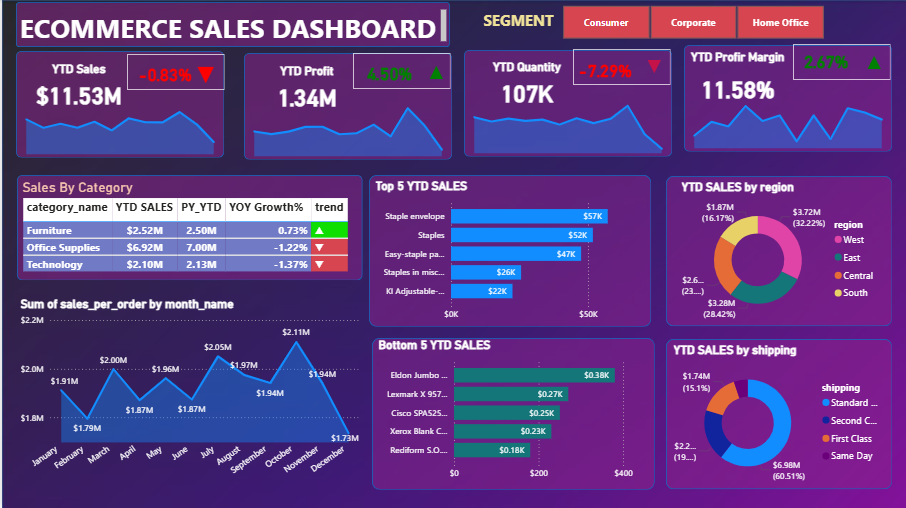

What the dashboard file says about the page in this screenshot:
{"tool":"powerbi","page":{"name":"Page 1","canvas":[1280,720],"ordinal":0},"visuals":[{"type":"shape","box":[19.7,2.2,614.8,63.8],"z":0},{"type":"textbox","box":[19.7,9,614.8,57.1],"z":1000},{"type":"shape","box":[20,72.8,295,151.1],"z":2000},{"type":"shape","box":[21.8,247.6,489.8,149.3],"z":3000},{"type":"card","title":"YTD Sales","fields":{"Values":["MEASURTABLE.YTD SALES"]},"box":[20,87.4,178.4,72.8],"z":4000},{"type":"areaChart","fields":{"Category":["calander.month_name"],"Y":["Sum(ecommerce_data.sales_per_order)"]},"box":[20,134.7,295,89.2],"z":5000},{"type":"card","fields":{"Values":["MEASURTABLE.YOY Growth%"]},"box":[176.6,87.4,107.4,34.6],"z":6000},{"type":"card","fields":{"Values":["MEASURTABLE.sales_trend"]},"box":[260.4,83.8,54.6,43.7],"z":7000},{"type":"shape","box":[176.6,76.5,138.4,51],"z":8000},{"type":"shape","box":[343.2,75.5,295,151.1],"z":9000},{"type":"card","title":"YTD Profit","fields":{"Values":["MEASURTABLE.YTD Profit"]},"box":[343.2,90.1,178.4,72.8],"z":10000},{"type":"areaChart","fields":{"Category":["calander.month_name"],"Y":["Sum(ecommerce_data.profit_per_order)"]},"box":[343.2,137.5,295,89.2],"z":11000},{"type":"shape","box":[497.1,74.7,138.4,51],"z":12000},{"type":"card","fields":{"Values":["MEASURTABLE.YOY profit growth%"]},"box":[504.4,80.1,89.2,47.3],"z":13000},{"type":"card","fields":{"Values":["MEASURTABLE.profit_trend"]},"box":[593.6,78.3,43.7,49.2],"z":14000},{"type":"shape","box":[966.8,63.7,295,151.1],"z":15000},{"type":"areaChart","fields":{"Category":["calander.month_name"],"Y":["MEASURTABLE.profit margin"]},"box":[966.8,125.6,295,89.2],"z":16000},{"type":"shape","box":[1120.7,62.8,138.4,51],"z":17000},{"type":"card","fields":{"Values":["MEASURTABLE.YOY profit margin%"]},"box":[1119.8,63.7,96.5,47.3],"z":18000},{"type":"card","fields":{"Values":["MEASURTABLE.quality_trend"]},"box":[904.9,69.2,40.1,49.2],"z":19000},{"type":"card","title":"YTD Profir Margin","fields":{"Values":["MEASURTABLE.YTD profit margin"]},"box":[957.7,71,169.3,89.2],"z":20000},{"type":"shape","box":[655.4,71,295,151.1],"z":21000},{"type":"card","title":"YTD Quantity","fields":{"Values":["MEASURTABLE.YTD quantity"]},"box":[655.4,85.5,178.4,72.8],"z":22000},{"type":"areaChart","fields":{"Category":["calander.month_name"],"Y":["Sum(ecommerce_data.order_quantity)"]},"box":[655.4,132.9,295,89.2],"z":23000},{"type":"shape","box":[809.3,70.1,138.4,51],"z":24000},{"type":"card","fields":{"Values":["MEASURTABLE.yoy quantity%"]},"box":[803.6,75.1,102,48.2],"z":25000},{"type":"card","fields":{"Values":["MEASURTABLE.margin_trend"]},"box":[1212.6,65.5,45.5,47.3],"z":26000},{"type":"tableEx","title":"Sales By Category","fields":{"Values":["ecommerce_data.category_name","MEASURTABLE.YTD SALES","MEASURTABLE.PY_YTD","MEASURTABLE.YOY  sales Growth%","MEASURTABLE.sales_trend"]},"box":[23.7,253.1,473.4,143.8],"z":27000},{"type":"shape","box":[520.7,247.6,400,215],"z":28000},{"type":"shape","box":[524.4,478.9,400.6,215],"z":29000},{"type":"barChart","title":"Top 5 YTD SALES ","fields":{"Y":["MEASURTABLE.YTD SALES"],"Category":["ecommerce_data.product_name"]},"box":[524.4,253.1,396.9,209.4],"z":30000},{"type":"barChart","title":"Bottom 5 YTD SALES ","fields":{"Y":["MEASURTABLE.YTD SALES"],"Category":["ecommerce_data.product_name"]},"box":[528,478.9,396.9,209.4],"z":30001},{"type":"shape","box":[941.3,249.4,320.5,213],"z":30002},{"type":"shape","box":[941.3,480.7,320.5,213],"z":30003},{"type":"donutChart","fields":{"Y":["MEASURTABLE.YTD SALES"],"Category":["ecommerce_data.customer_region"]},"box":[957.7,254.9,291.3,207.6],"z":30004},{"type":"donutChart","fields":{"Y":["MEASURTABLE.YTD SALES"],"Category":["ecommerce_data.shipping_type"]},"box":[946.8,486.1,311.4,207.6],"z":30005},{"type":"areaChart","fields":{"Y":["Sum(ecommerce_data.sales_per_order)"],"Category":["calander.Date Hierarchy.Date","calander.Date Hierarchy.month_name","calander.Date Hierarchy.YEAR"]},"box":[21.8,420.6,489.8,273.1],"z":30006},{"type":"textbox","box":[677.3,9.1,112.9,52.8],"z":30007},{"type":"slicer","fields":{"Values":["ecommerce_data.customer_segment"]},"box":[770.2,1.8,418.8,60.1],"z":30008}]}

Visuals, with their boxes in screenshot pixels (x1, y1, x2, y2), scaled from the page's 1280x720 canvas onto the 906x508 screenshot:
shape: detection(14, 2, 449, 47)
textbox: detection(14, 6, 449, 47)
shape: detection(14, 51, 223, 158)
shape: detection(15, 175, 362, 280)
"YTD Sales" card: detection(14, 62, 140, 113)
areaChart - calander.month_name x Sum(ecommerce_data.sales_per_order): detection(14, 95, 223, 158)
card - MEASURTABLE.YOY Growth%: detection(125, 62, 201, 86)
card - MEASURTABLE.sales_trend: detection(184, 59, 223, 90)
shape: detection(125, 54, 223, 90)
shape: detection(243, 53, 452, 160)
"YTD Profit" card: detection(243, 64, 369, 115)
areaChart - calander.month_name x Sum(ecommerce_data.profit_per_order): detection(243, 97, 452, 160)
shape: detection(352, 53, 450, 89)
card - MEASURTABLE.YOY profit growth%: detection(357, 57, 420, 90)
card - MEASURTABLE.profit_trend: detection(420, 55, 451, 90)
shape: detection(684, 45, 893, 152)
areaChart - calander.month_name x MEASURTABLE.profit margin: detection(684, 89, 893, 152)
shape: detection(793, 44, 891, 80)
card - MEASURTABLE.YOY profit margin%: detection(793, 45, 861, 78)
card - MEASURTABLE.quality_trend: detection(640, 49, 669, 84)
"YTD Profir Margin" card: detection(678, 50, 798, 113)
shape: detection(464, 50, 673, 157)
"YTD Quantity" card: detection(464, 60, 590, 112)
areaChart - calander.month_name x Sum(ecommerce_data.order_quantity): detection(464, 94, 673, 157)
shape: detection(573, 49, 671, 85)
card - MEASURTABLE.yoy quantity%: detection(569, 53, 641, 87)
card - MEASURTABLE.margin_trend: detection(858, 46, 890, 80)
"Sales By Category" tableEx: detection(17, 179, 352, 280)
shape: detection(369, 175, 652, 326)
shape: detection(371, 338, 655, 490)
"Top 5 YTD SALES " barChart: detection(371, 179, 652, 326)
"Bottom 5 YTD SALES " barChart: detection(374, 338, 655, 486)
shape: detection(666, 176, 893, 326)
shape: detection(666, 339, 893, 489)
donutChart - MEASURTABLE.YTD SALES x ecommerce_data.customer_region: detection(678, 180, 884, 326)
donutChart - MEASURTABLE.YTD SALES x ecommerce_data.shipping_type: detection(670, 343, 891, 489)
areaChart - Sum(ecommerce_data.sales_per_order) x calander.Date Hierarchy.Date: detection(15, 297, 362, 489)
textbox: detection(479, 6, 559, 44)
slicer - ecommerce_data.customer_segment: detection(545, 1, 842, 44)
